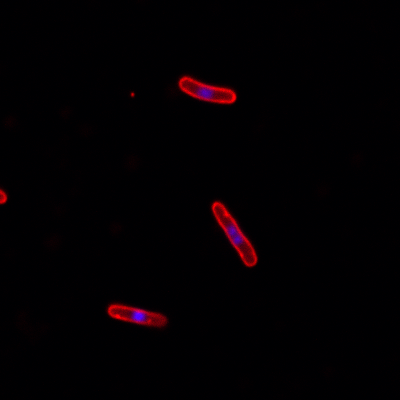Nalidixate: (209, 200, 258, 267), (178, 74, 238, 105)
Oblique: (106, 301, 169, 331)
Vesicle: (129, 89, 138, 99)
